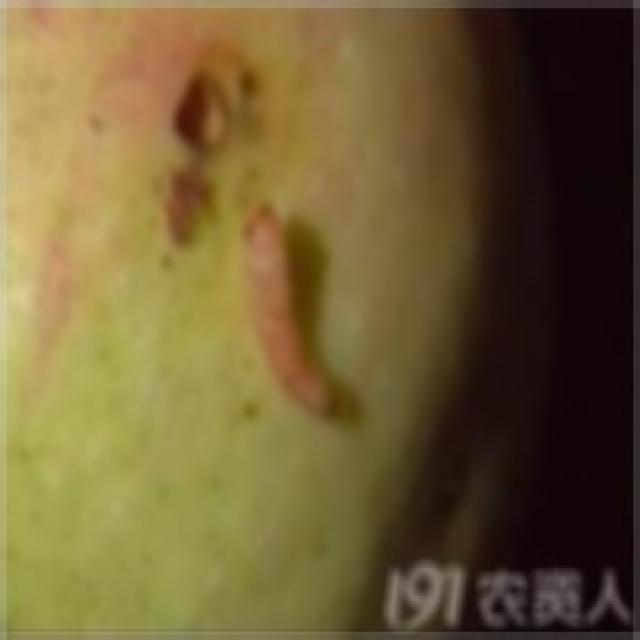peach borer: (237, 191, 337, 410)
